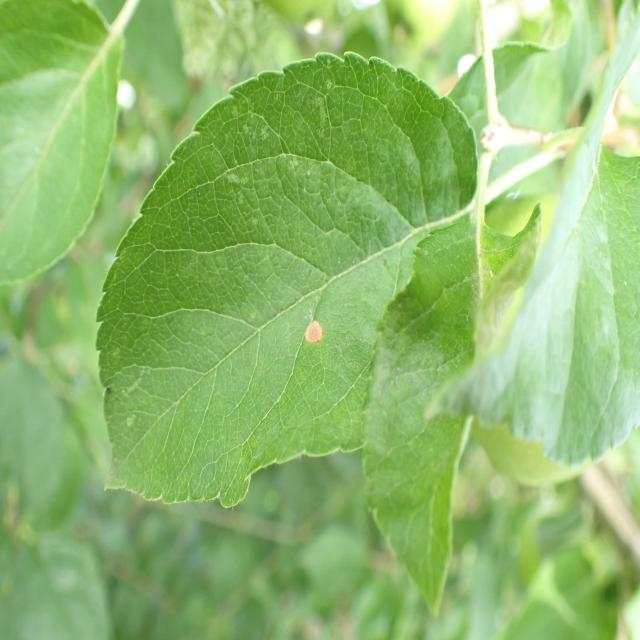Black Rot: (298, 299, 328, 374)
